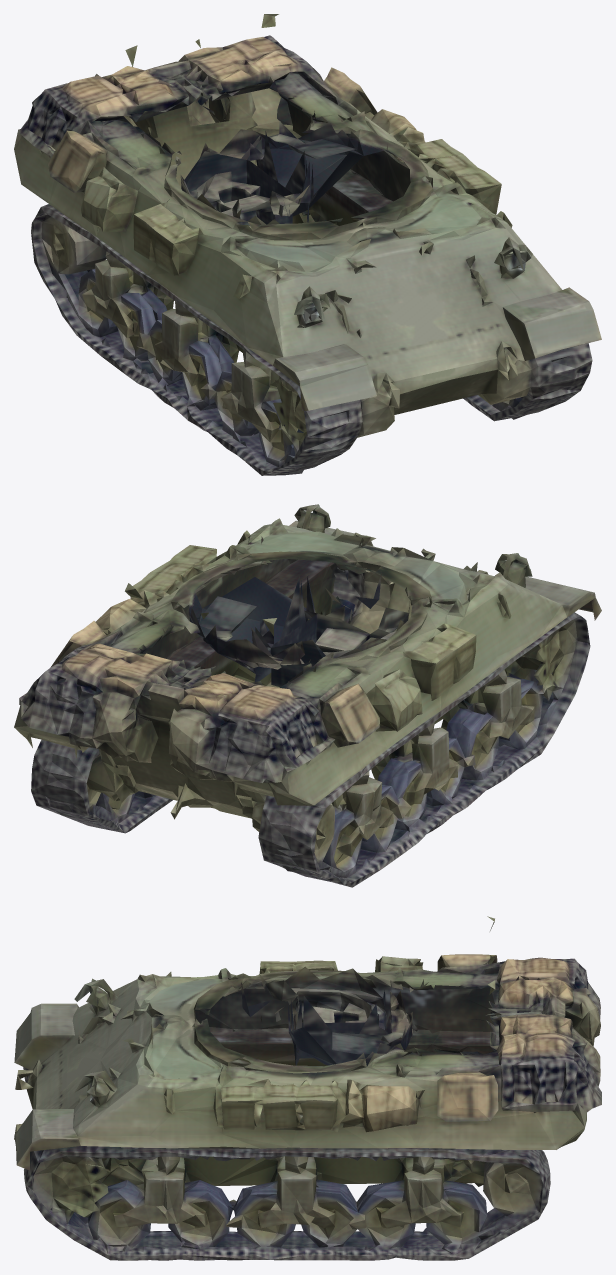
File: m10_hull.obj
3 renders of one model, top to bottom at view 1: azimuth 30°, elevation 25°; view 2: azimuth 150°, elevation 25°; view 3: azimuth 270°, elevation 25°, orthographic. The views are drawn at different scales.
Visible parts, largest first — view 1: m10_hull; view 2: m10_hull; view 3: m10_hull.
Boxes of the visible parts, left/top/right/bottom form: m10_hull: left=14, top=14, right=601, bottom=475; m10_hull: left=14, top=504, right=601, bottom=887; m10_hull: left=14, top=916, right=601, bottom=1260.
Size of the model in its own units: 3.43 by 2.78 by 5.9.
1 material, 1 textured.
